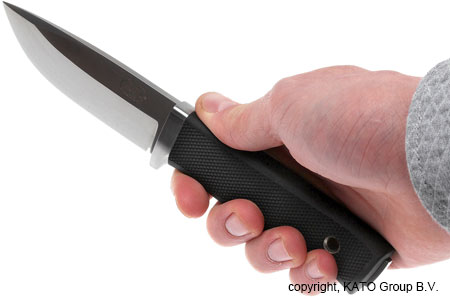knife: (1, 1, 294, 239)
